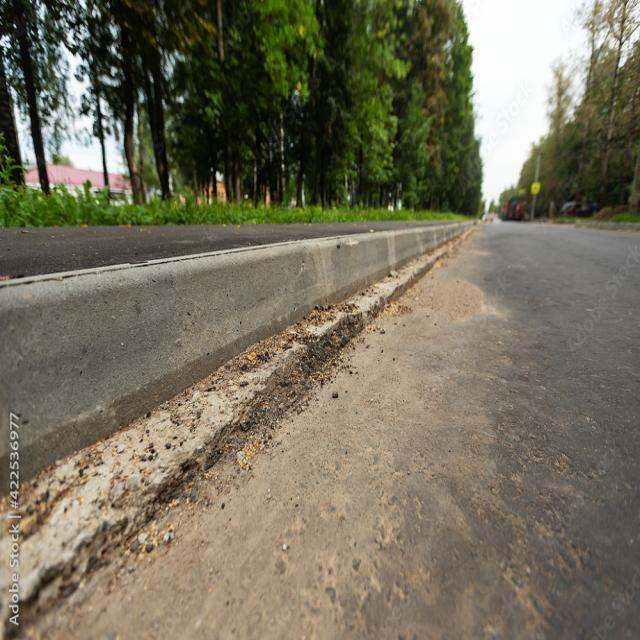Pothole: (0, 219, 485, 604)
